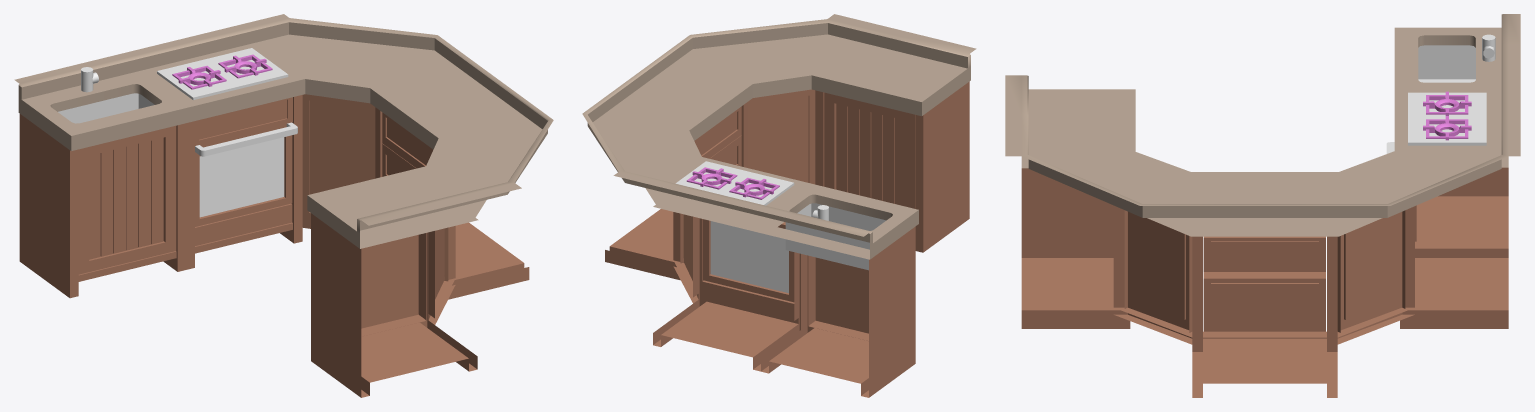
Rendered from Counter.fbx.
3 views of the same model, side by side, from view 1: azimuth 30°, elevation 25°; view 2: azimuth 150°, elevation 25°; view 3: azimuth 270°, elevation 25° (orthographic). The views are drawn at different scales.
Parts seen in each view (by area): view 1: Counter.001; view 2: Counter.001; view 3: Counter.001.
Part boxes in pixels (bbox=[...]): Counter.001: bbox=[14, 14, 553, 397]; Counter.001: bbox=[582, 14, 976, 397]; Counter.001: bbox=[1005, 14, 1520, 397].
Size of the model in its own units: 219 by 106 by 248.
